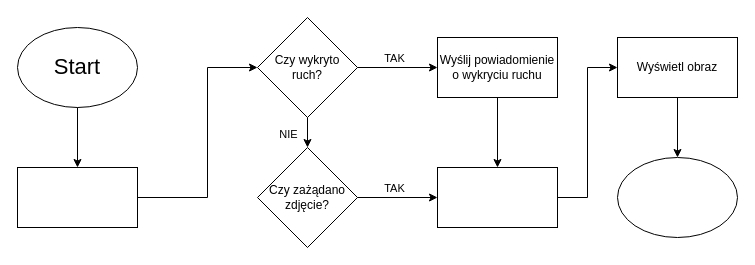
The diagram is 755 pixels wide and 265 high, and some of its shapes have lost their labels. The shapes that lost their labels are listed below. From the top down, each one's centre as x and y in pixels, then its label:
At [77,197]: "Połącz z Wi-Fi lub Bluetooth".
At [497,197]: "Wyślij obraz z kamerki do aplikacji mobilnej".
At [677,197]: "Koniec".
